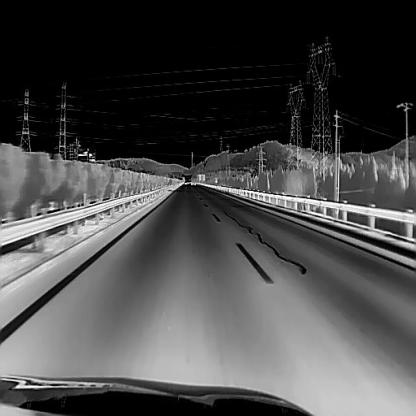truck: (191, 174, 196, 184)
